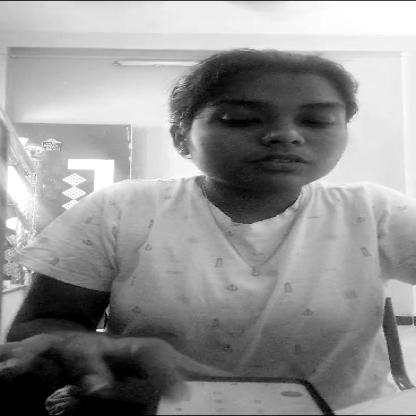Normal: (131, 33, 364, 188)
